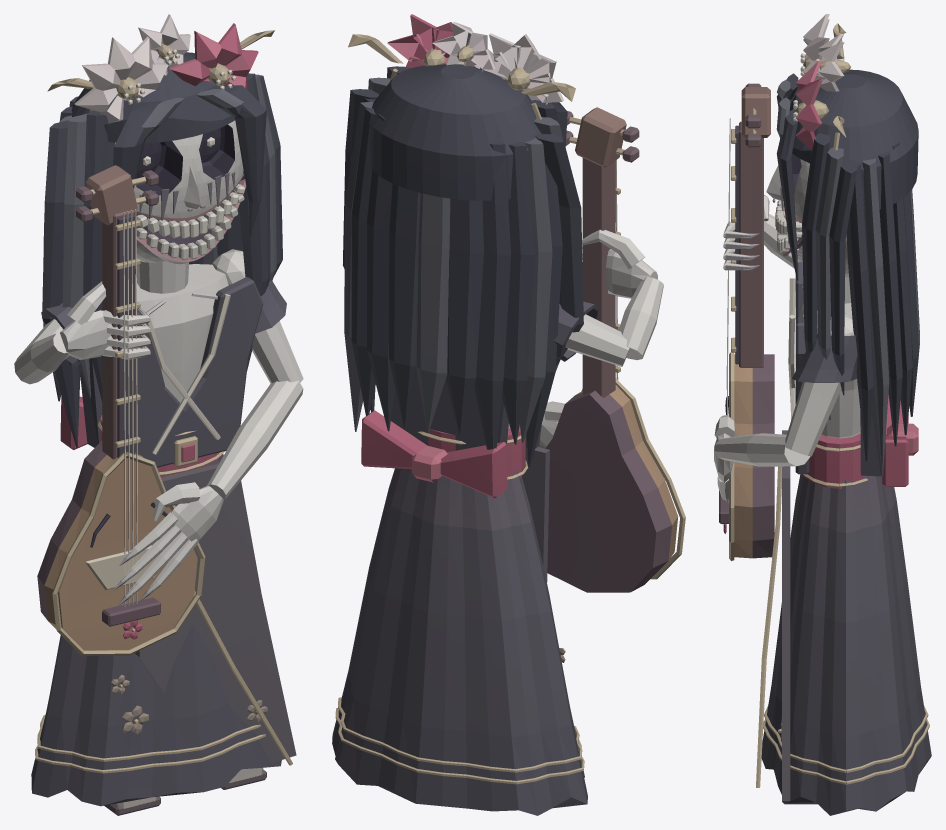
The model's file is Mimic.glb.
The picture shows the model from 3 angles, left to right: view 1: azimuth 30°, elevation 25°; view 2: azimuth 150°, elevation 25°; view 3: azimuth 270°, elevation 25°; orthographic projection. The views are drawn at different scales.
Visible parts, largest first — view 1: Body, Head, ArmL, ArmR, LegR, LegL; view 2: Body, Head, ArmR, ArmL; view 3: Body, Head, ArmL, ArmR.
Boxes of the visible parts, x1,y1,x2,y2 form: Body: (31,165,296,806); Head: (42,14,282,447); ArmL: (113,249,303,606); ArmR: (14,281,150,384); LegR: (104,796,160,815); LegL: (221,768,266,789); Body: (332,107,685,815); Head: (343,14,583,467); ArmR: (553,229,663,366); ArmL: (538,401,564,448); Body: (719,83,931,815); Head: (766,14,919,476); ArmL: (714,313,857,502); ArmR: (723,195,794,270).
Size of the model in its own units: 3.1 by 7.68 by 2.07.
